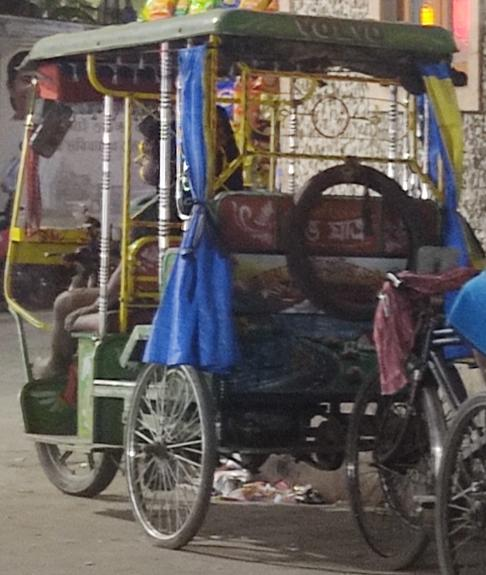Auto: (11, 17, 472, 561)
